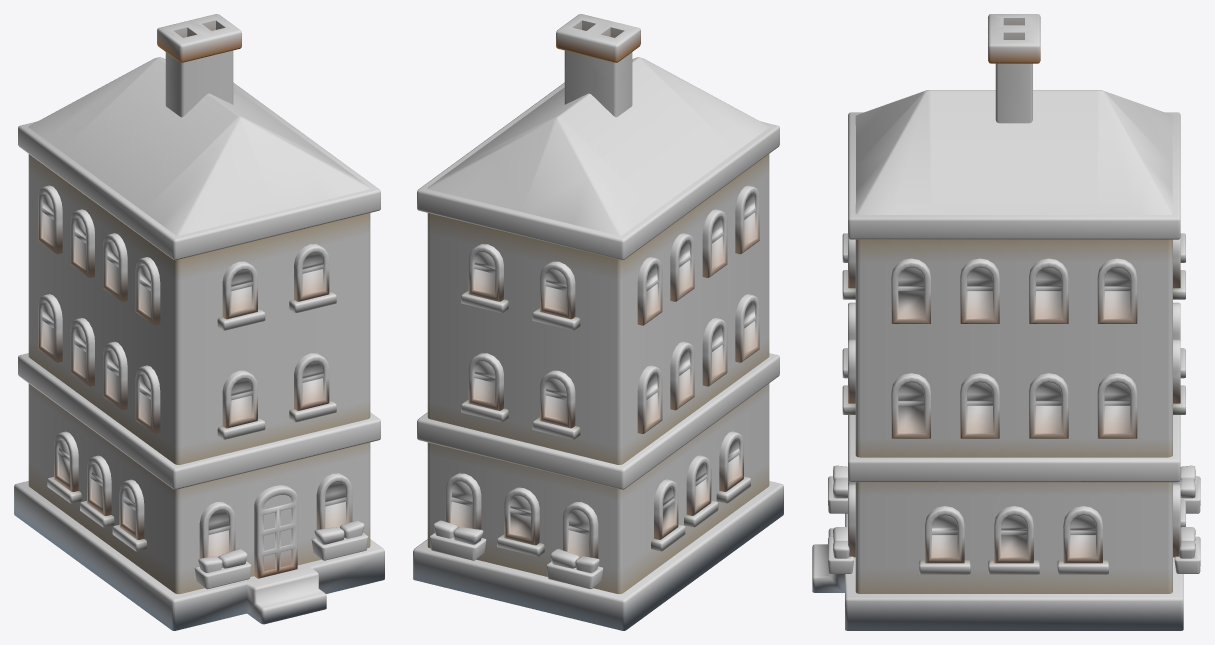
The model's file is NF_Bld_Apartment 17.fbx.
The picture shows the model from 3 angles, left to right: view 1: azimuth 30°, elevation 25°; view 2: azimuth 150°, elevation 25°; view 3: azimuth 270°, elevation 25°; orthographic projection. The views are drawn at different scales.
Parts seen in each view (by area): view 1: Apart_17; view 2: Apart_17; view 3: Apart_17.
Part boxes in pixels (x1,y1,x2,y2): Apart_17: (14, 14, 384, 630); Apart_17: (413, 14, 783, 630); Apart_17: (812, 14, 1200, 630).
Bounding box in the file's own units: 6.66 × 15.23 × 9.8.
